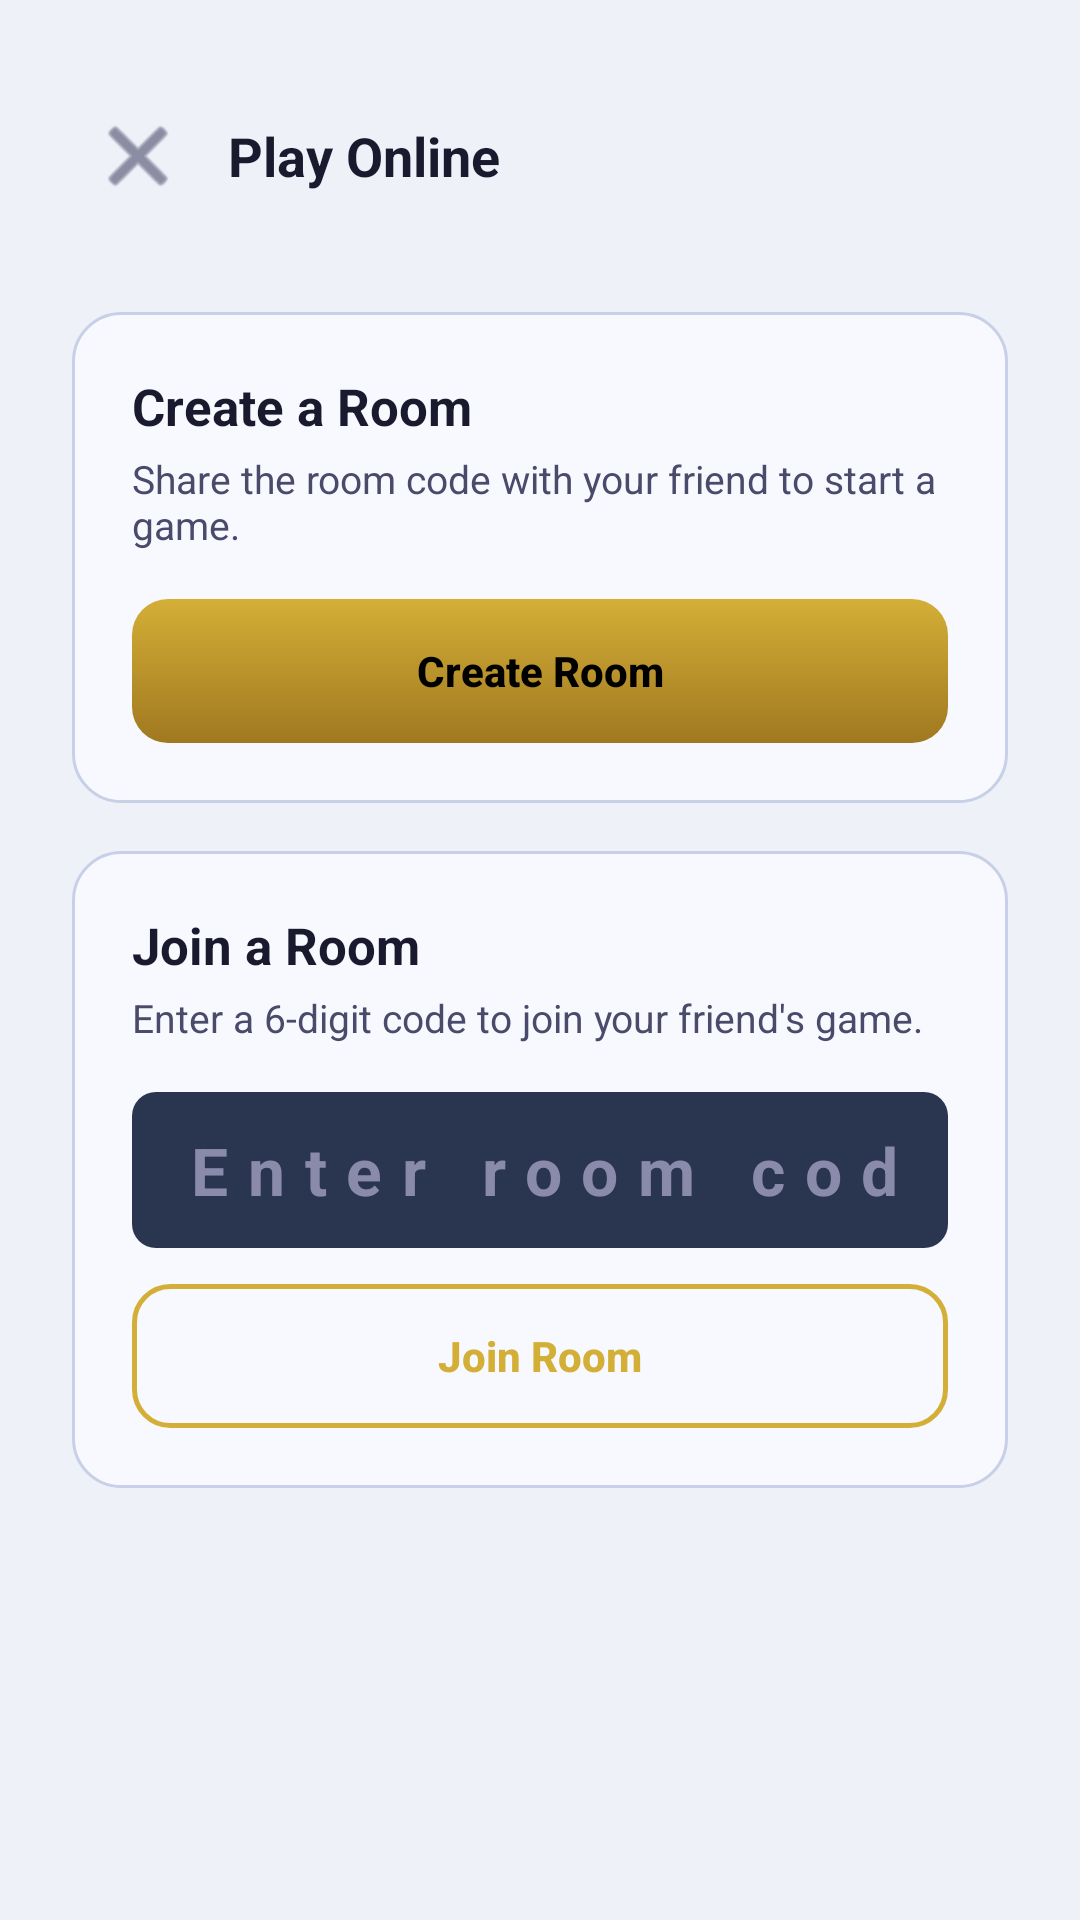

Icon bounding boxes for this 1080 × 1920 phone screenshot, format (x1, y1, x2, y2):
Back: (108, 126, 168, 186)
